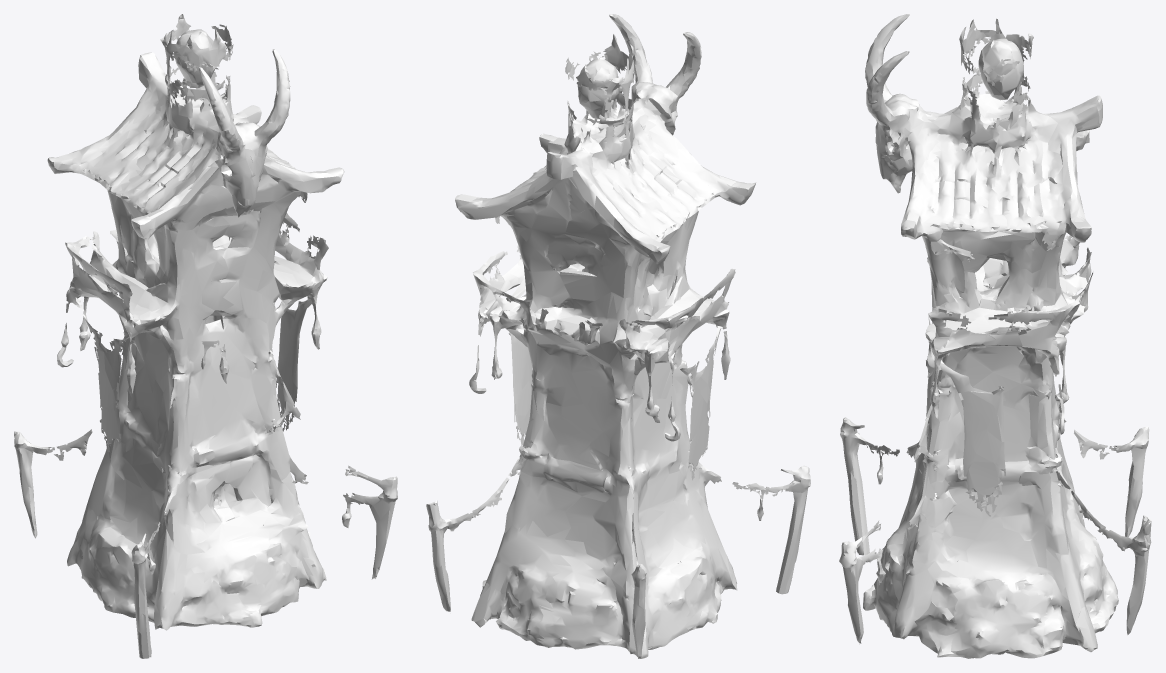
The model's file is shaman_tower.glb.
3 views of the same model, side by side, from view 1: azimuth 30°, elevation 25°; view 2: azimuth 150°, elevation 25°; view 3: azimuth 270°, elevation 25° (orthographic). The views are drawn at different scales.
Visible parts, largest first — view 1: output_unwrapped; view 2: output_unwrapped; view 3: output_unwrapped.
Boxes of the visible parts, x1,y1,x2,y2 form: output_unwrapped: [14, 14, 397, 658]; output_unwrapped: [426, 14, 810, 658]; output_unwrapped: [839, 14, 1151, 658].
Size of the model in its own units: 8.85 by 18 by 8.67.
Materials: 1 (1 with a texture image).
